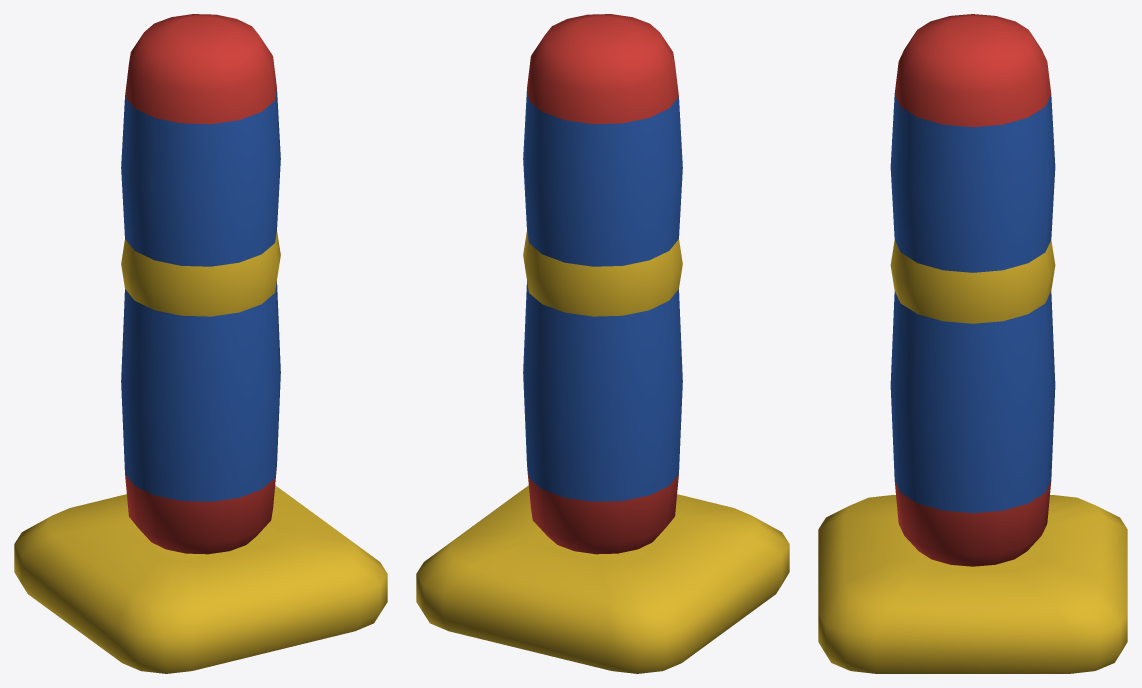
Rendered from punch_bag.glb.
3 renders of one model, left to right at view 1: azimuth 30°, elevation 25°; view 2: azimuth 150°, elevation 25°; view 3: azimuth 270°, elevation 25°, orthographic. The views are drawn at different scales.
Visible parts, largest first — view 1: playplace_punch_bag; view 2: playplace_punch_bag; view 3: playplace_punch_bag.
Boxes of the visible parts, x1,y1,x2,y2 form: playplace_punch_bag: [14, 14, 387, 673]; playplace_punch_bag: [416, 14, 789, 673]; playplace_punch_bag: [818, 14, 1127, 673].
Size of the model in its own units: 0.77 by 1.6 by 0.77.
